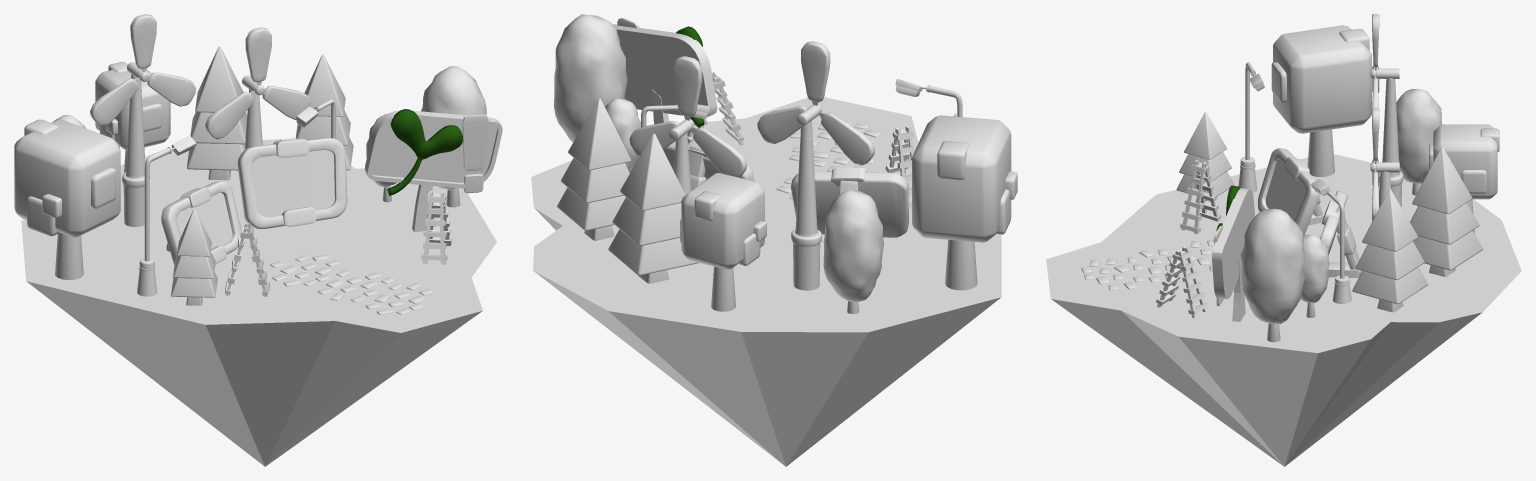
File: isla_limpia.fbx
The picture shows the model from 3 angles, left to right: view 1: azimuth 30°, elevation 25°; view 2: azimuth 150°, elevation 25°; view 3: azimuth 270°, elevation 25°; orthographic projection. The views are drawn at different scales.
Parts seen in each view (by area): view 1: MainIsland.fran, Box001.002, Cube.016, Cube.251, helix gran.004, helix gran.003, Cube.293, cos.002, Cube.296, Cube.324, Box001.001, Cone.010 (+19 smaller); view 2: MainIsland.fran, Box001.002, Cube.296, Box001.001, Cube.298, Cube.251, helix gran.004, helix gran.003, Cube.293, cos.002, Cone.010, Cone.009 (+15 smaller); view 3: MainIsland.fran, Box001.002, Cube.296, Cube.298, Box001.001, Cube.293, Cube.251, Cone.010, Cone.009, Cone.011, Cone.008, Cube.294 (+18 smaller).
Part boxes in pixels (<box>): MainIsland.fran: <box>21,139,496,466</box>; Box001.002: <box>14,119,120,237</box>; Cube.016: <box>237,138,347,228</box>; Cube.251: <box>364,110,502,188</box>; helix gran.004: <box>90,14,195,125</box>; helix gran.003: <box>205,27,311,139</box>; Cube.293: <box>161,181,241,265</box>; cos.002: <box>122,74,149,226</box>; Cube.296: <box>421,66,486,190</box>; Cube.324: <box>387,109,462,195</box>; Box001.001: <box>95,69,170,150</box>; Cone.010: <box>195,46,243,112</box>; MainIsland.fran: <box>531,97,1001,466</box>; Box001.002: <box>912,115,1011,242</box>; Cube.296: <box>554,14,627,142</box>; Box001.001: <box>681,173,764,269</box>; Cube.298: <box>823,189,883,302</box>; Cube.251: <box>613,24,717,117</box>; helix gran.004: <box>757,41,874,165</box>; helix gran.003: <box>629,56,747,177</box>; Cube.293: <box>790,171,908,237</box>; cos.002: <box>791,120,821,290</box>; Cone.010: <box>620,133,685,210</box>; Cone.009: <box>568,98,631,170</box>; MainIsland.fran: <box>1046,154,1521,466</box>; Box001.002: <box>1273,25,1371,133</box>; Cube.296: <box>1240,208,1305,324</box>; Cube.298: <box>1396,88,1442,183</box>; Box001.001: <box>1433,124,1497,199</box>; Cube.293: <box>1257,148,1319,235</box>; Cube.251: <box>1212,188,1254,299</box>; Cone.010: <box>1412,147,1472,214</box>; Cone.009: <box>1362,189,1418,251</box>; Cone.011: <box>1410,203,1479,244</box>; Cone.008: <box>1355,241,1424,280</box>; Cube.294: <box>1156,246,1208,317</box>.
Size of the model in its own units: 2235 by 2151 by 2227.
